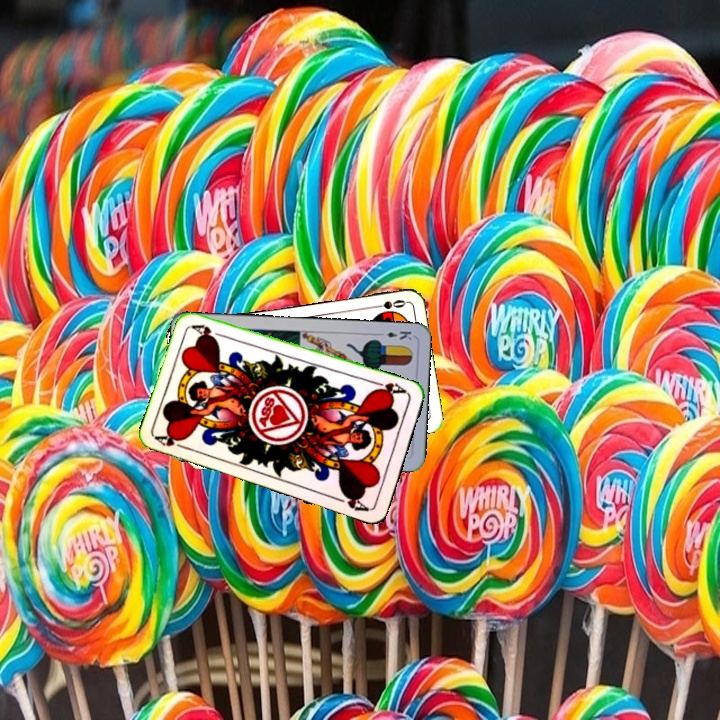EK: (374, 327, 414, 342)
HA: (152, 429, 192, 452), (369, 377, 409, 398)
SO: (368, 296, 408, 312)
